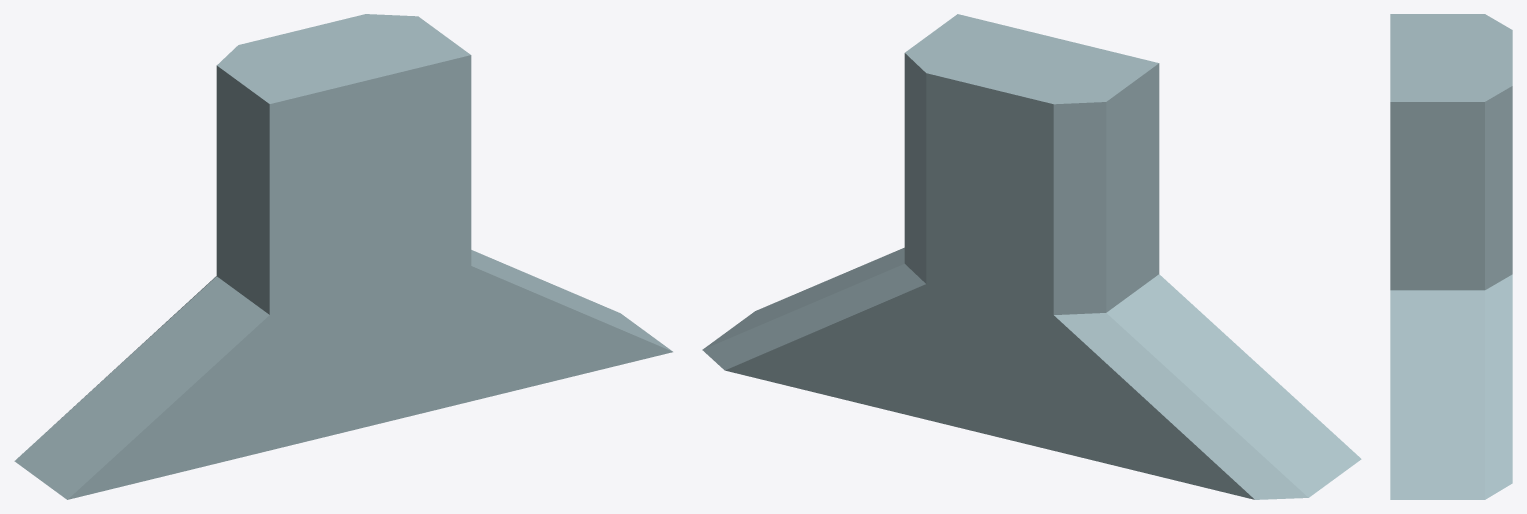
Rendered from de_ice_1.fbx.
3 renders of one model, left to right at view 1: azimuth 30°, elevation 25°; view 2: azimuth 150°, elevation 25°; view 3: azimuth 270°, elevation 25°, orthographic. The views are drawn at different scales.
Parts seen in each view (by area): view 1: Cube.321; view 2: Cube.321; view 3: Cube.321.
Part boxes in pixels (<box>): Cube.321: <box>14,14,672,499</box>; Cube.321: <box>702,14,1361,499</box>; Cube.321: <box>1390,14,1512,499</box>.
Size of the model in its own units: 529 by 289 by 103.
